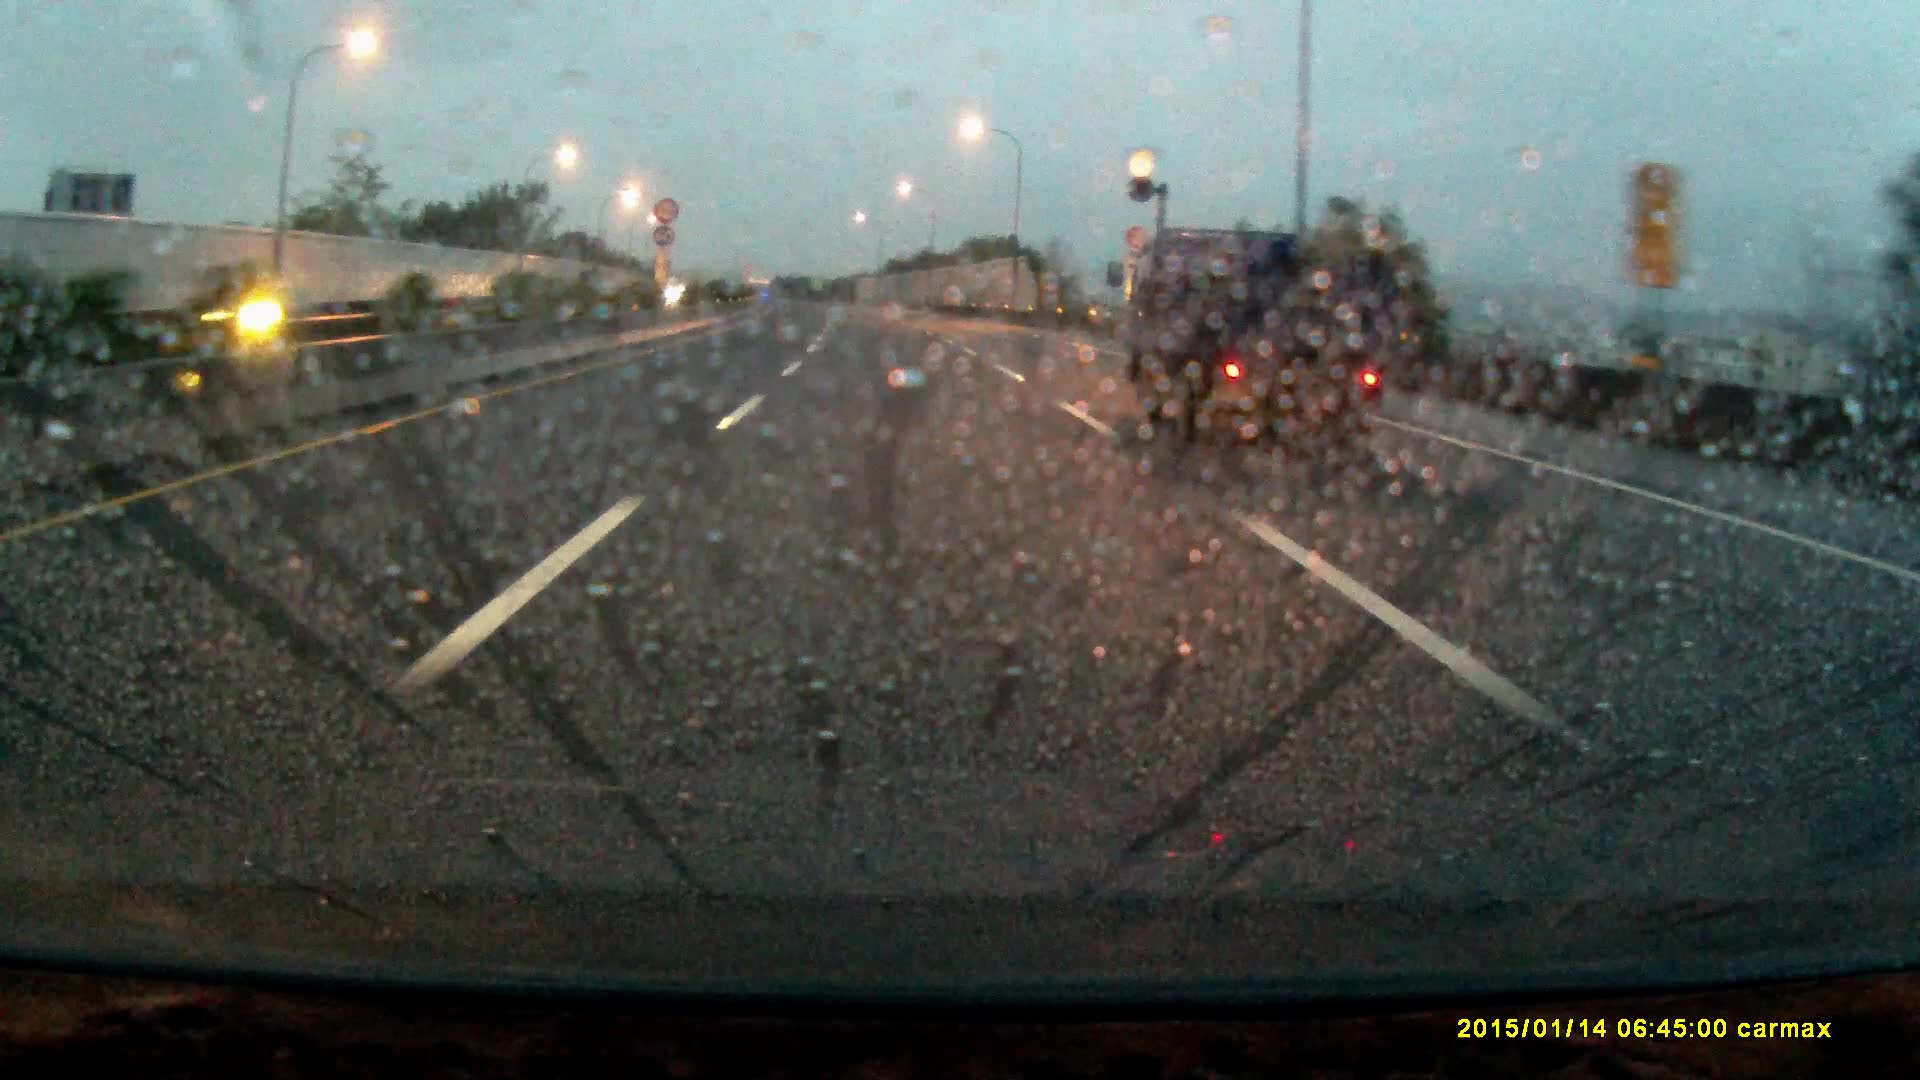vehicle: (1139, 225, 1399, 485), (198, 287, 306, 331)
